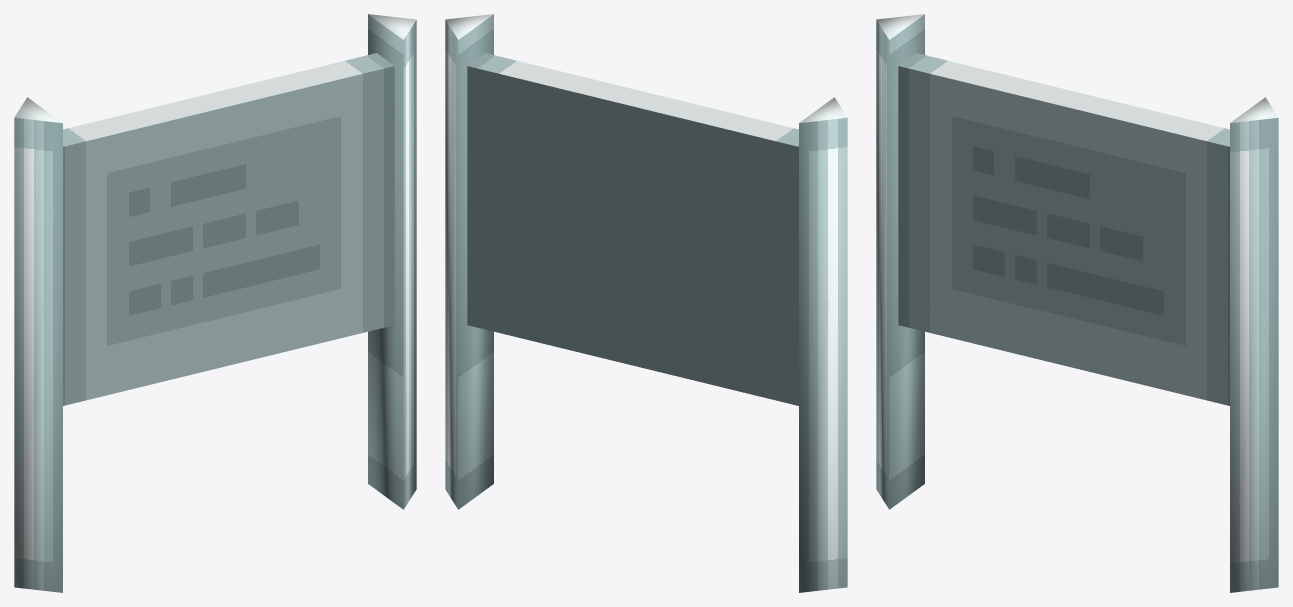
File: BigSign.fbx
The picture shows the model from 3 angles, left to right: view 1: azimuth 30°, elevation 25°; view 2: azimuth 150°, elevation 25°; view 3: azimuth 330°, elevation 25°; orthographic projection.
Visible parts, largest first — view 1: polygon0; view 2: polygon0; view 3: polygon0.
Boxes of the visible parts, x1,y1,x2,y2 form: polygon0: (14,14,416,592); polygon0: (445,14,847,592); polygon0: (876,14,1278,592).
Size of the model in its own units: 1.62 by 1.81 by 0.25.
